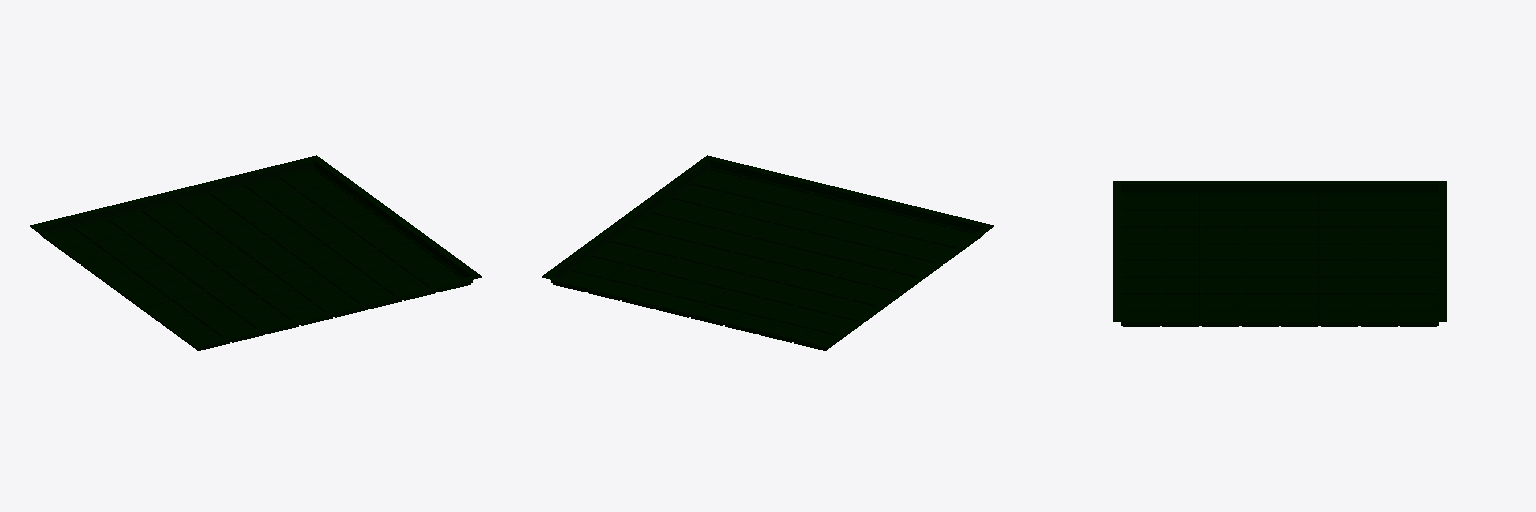
File: OthelloBoard.obj
The picture shows the model from 3 angles: view 1: azimuth 30°, elevation 25°; view 2: azimuth 150°, elevation 25°; view 3: azimuth 270°, elevation 25°; orthographic projection.
Parts seen in each view (by area): view 1: Plane; view 2: Plane; view 3: Plane.
Part boxes in pixels (x1,y1,x2,y2): Plane: (30,155,481,350); Plane: (542,155,993,350); Plane: (1113,181,1446,326).
Bounding box in the file's own units: 67.2 × 2 × 67.2.